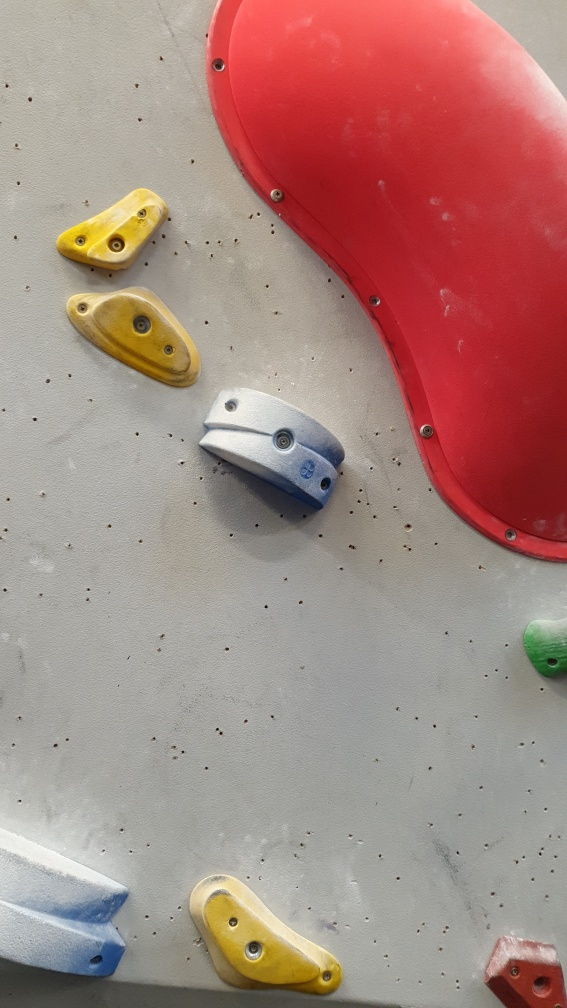Crimp: (195, 877, 329, 996), (91, 290, 194, 382), (74, 198, 166, 271)
Jug: (521, 618, 567, 685)
Pinch: (1, 826, 130, 986), (202, 384, 347, 509)
